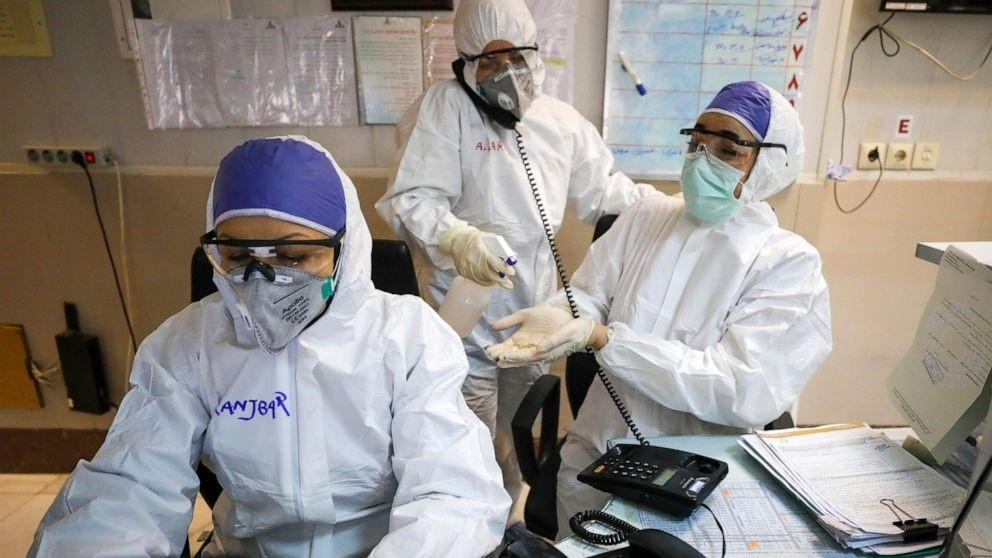face_with_mask: (201, 134, 368, 353), (679, 80, 805, 229), (449, 0, 547, 132)
